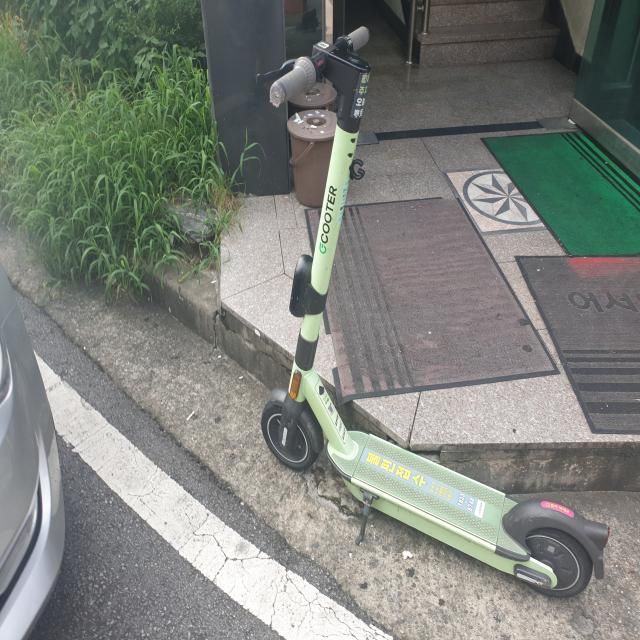bike: (260, 32, 611, 601)
car: (0, 78, 66, 640)
